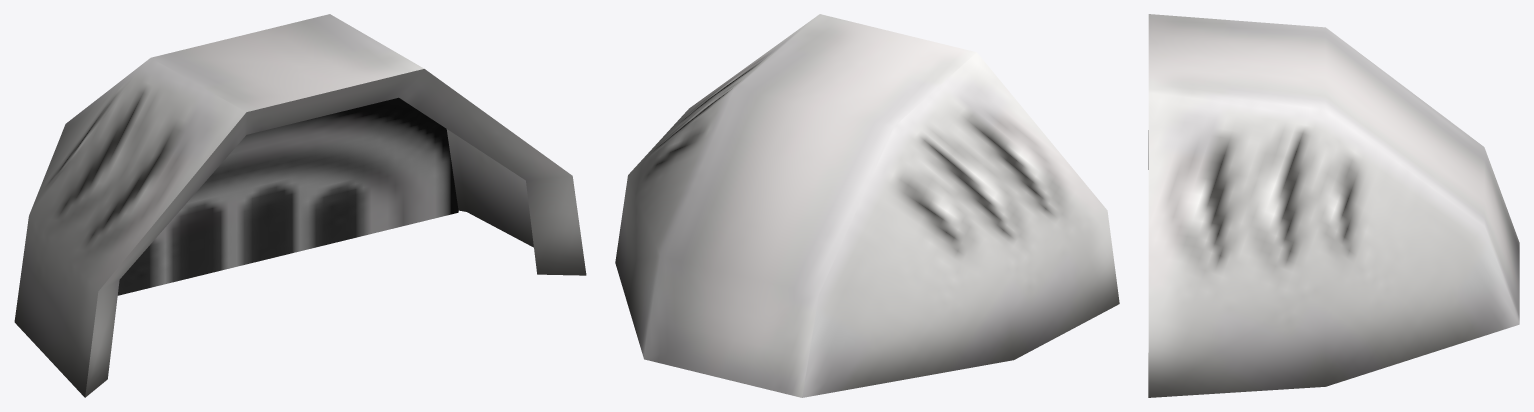
Rendered from acc_5.glb.
3 views of the same model, side by side, from view 1: azimuth 30°, elevation 25°; view 2: azimuth 150°, elevation 25°; view 3: azimuth 270°, elevation 25° (orthographic). The views are drawn at different scales.
Parts seen in each view (by area): view 1: vertex, inside; view 2: vertex; view 3: vertex.
Part boxes in pixels (box(x1,y1,x2,y2)): vertex: box(14, 14, 586, 397); inside: box(117, 97, 458, 295); vertex: box(615, 14, 1119, 397); vertex: box(1148, 14, 1519, 397).
Bounding box in the file's own units: 0.5202 × 0.244 × 0.3579.
2 materials, 2 textured.
